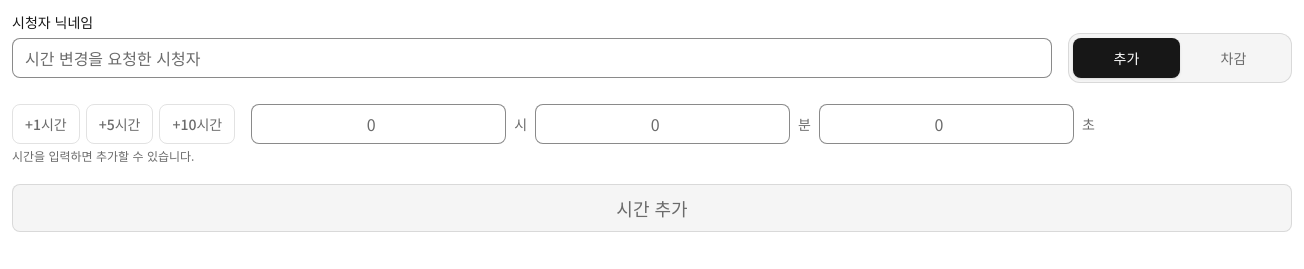
it: TimerControls › validates empty nickname on submit
Click the button "+1시간" at (46, 124), box [12,104,80,144]
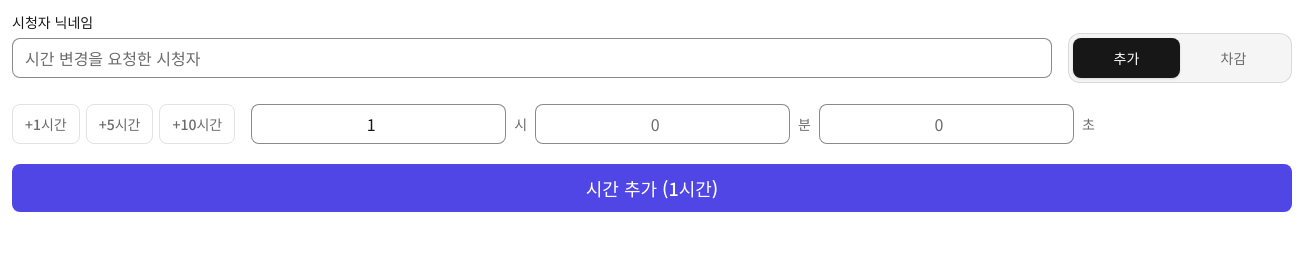
Click the button "시간 추가 (1시간)" at (652, 188), box [12,164,1292,212]
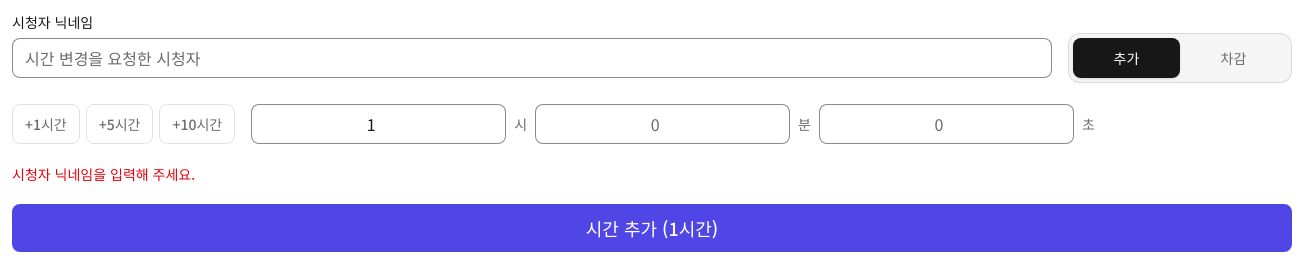
Result: the message shows "시청자 닉네임을 입력해 주세요" at [12,164,195,184]
